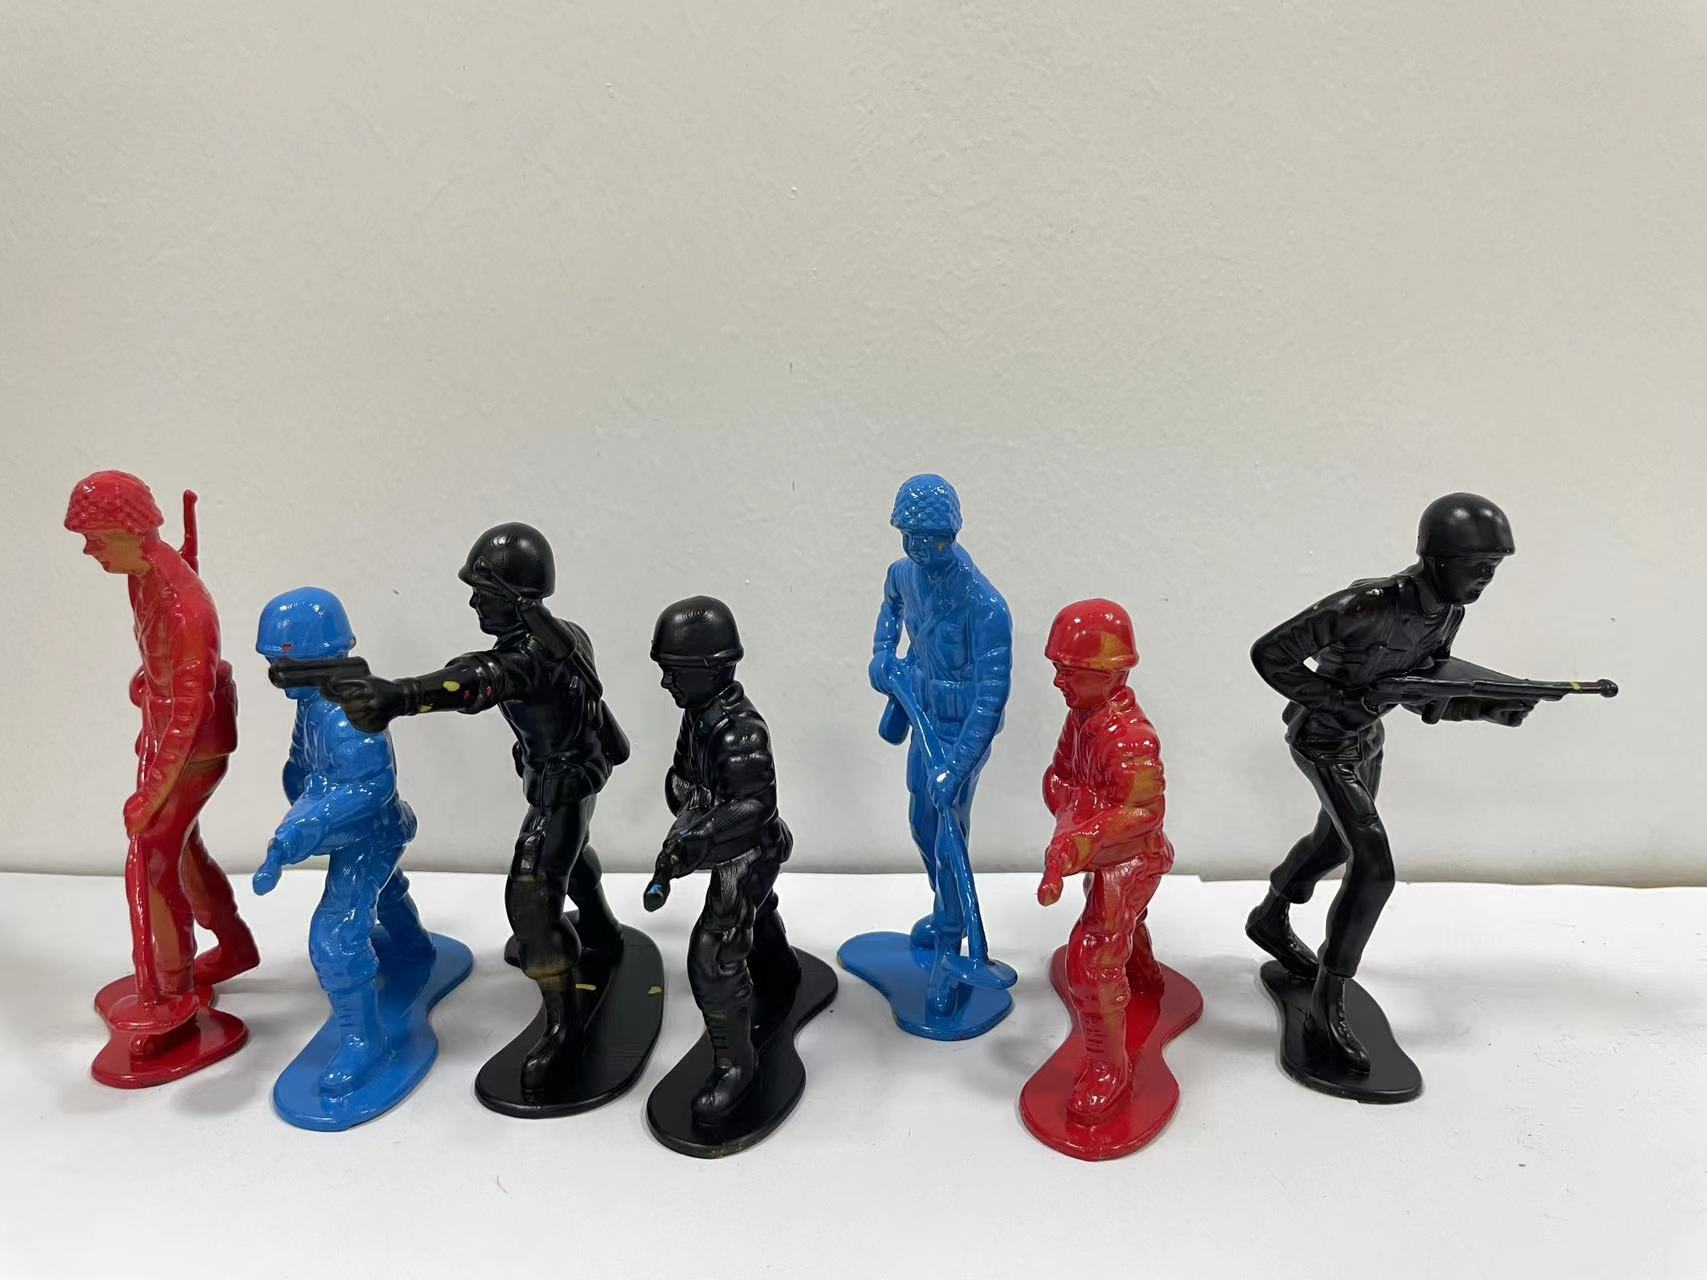black: (1227, 460, 1632, 1125), (415, 499, 667, 1128), (634, 567, 837, 1172)
blue: (835, 442, 1032, 1043), (245, 567, 452, 1140)
red: (46, 450, 265, 1101), (1023, 588, 1227, 1158)
